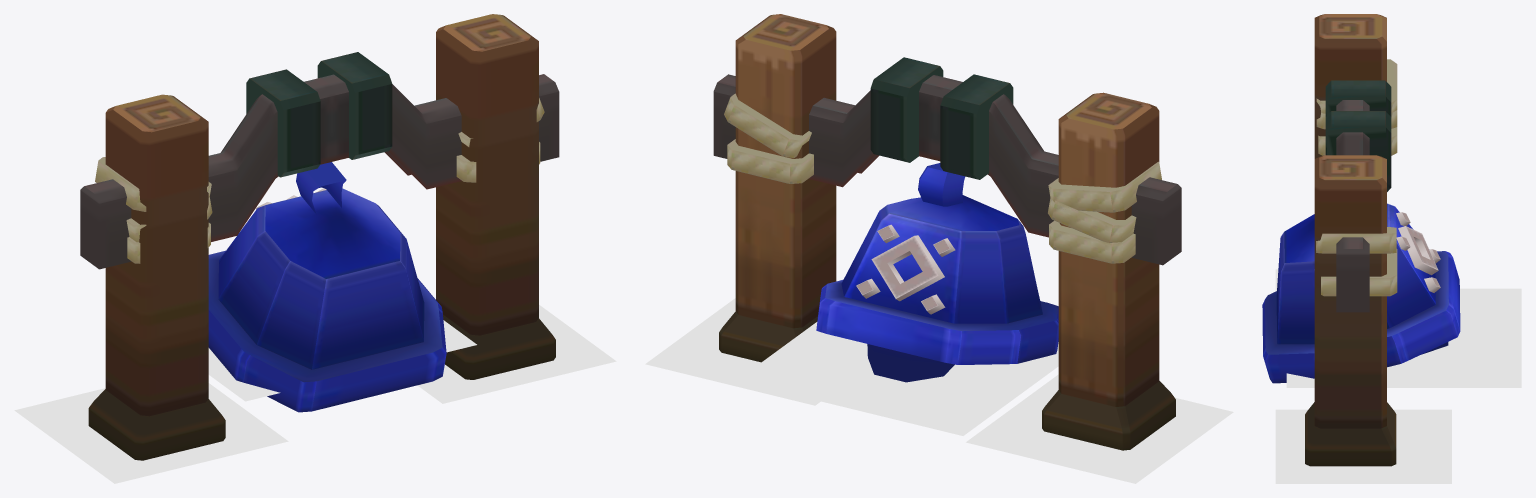
Rendered from [gimmick]bell_navy.fbx.
The picture shows the model from 3 angles, left to right: view 1: azimuth 30°, elevation 25°; view 2: azimuth 150°, elevation 25°; view 3: azimuth 270°, elevation 25°; orthographic projection. The views are drawn at different scales.
Visible parts, largest first — view 1: [gimmick]bell_navy, bell_navy, shadow2, shadow1, shadow; view 2: [gimmick]bell_navy, bell_navy, shadow, shadow2, shadow1; view 3: [gimmick]bell_navy, bell_navy, shadow, shadow1.
Part boxes in pixels (<box>): [gimmick]bell_navy: <box>80,14,559,460</box>; bell_navy: <box>208,162,446,412</box>; shadow2: <box>14,383,288,483</box>; shadow1: <box>417,305,616,403</box>; shadow: <box>208,320,476,401</box>; [gimmick]bell_navy: <box>713,14,1181,450</box>; bell_navy: <box>816,163,1058,382</box>; shadow: <box>736,322,1058,435</box>; shadow2: <box>966,374,1233,483</box>; shadow1: <box>645,298,820,405</box>; [gimmick]bell_navy: <box>1305,14,1397,466</box>; bell_navy: <box>1262,203,1460,383</box>; shadow: <box>1286,288,1521,387</box>; shadow1: <box>1275,409,1451,483</box>.
Size of the model in its own units: 2.59 by 1.59 by 1.32.
Materials: 2 (2 with a texture image).
